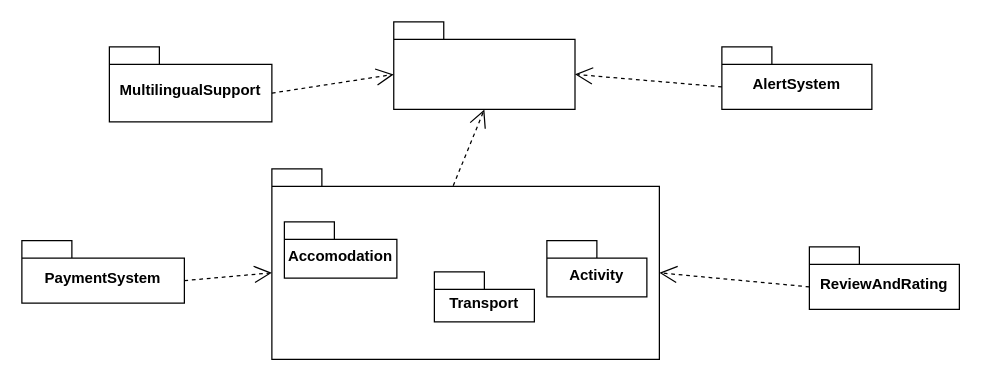
This 981x381 diagram has some shape labels left out. Each missing label, with the box of its shape:
Booking: (271, 168, 659, 359)
UserManagement: (392, 21, 575, 109)
